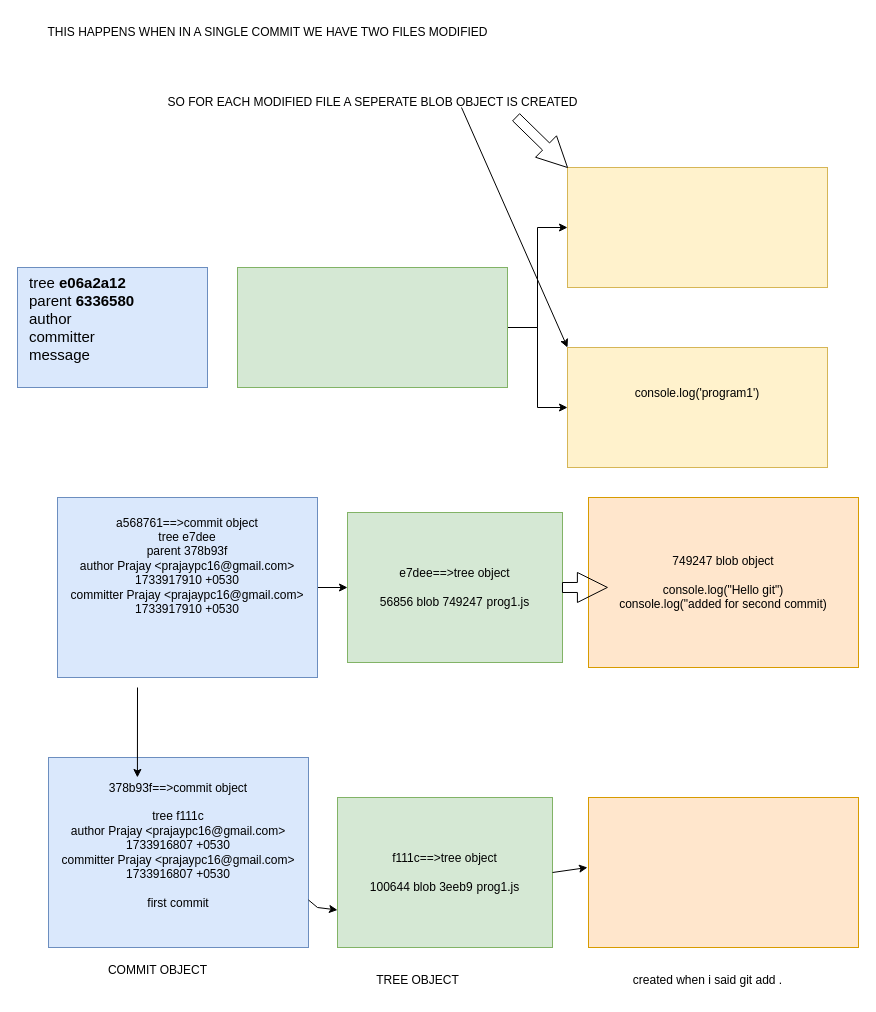
Image size: 876x1012. Some labels were removed from this diagram. Each missing label, with the centre of its shape:
100644 blob c643c0d2 program1.js 100644 blob 65d32bd program2.js: point 372,327
3eeb9 blob object console.log("Hello git"): point 723,872
console.log('program2') console.log('program2'): point 697,227
